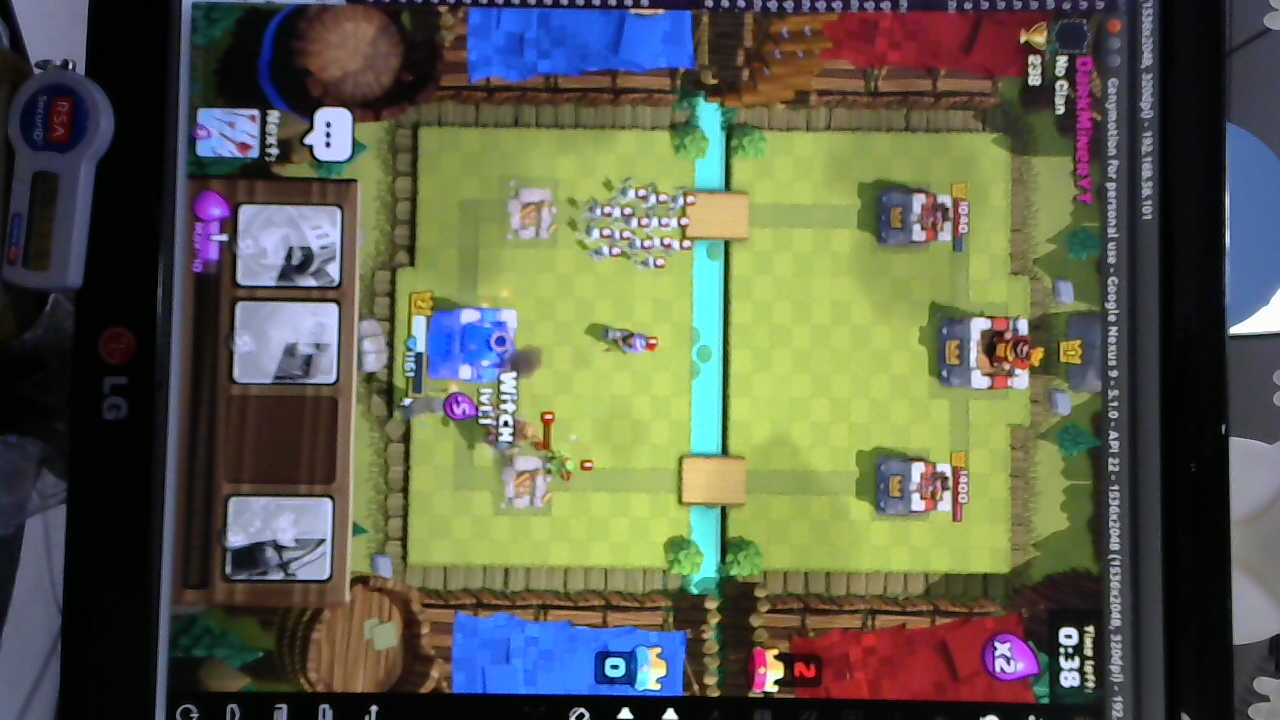darena: (497, 447, 553, 513), (505, 186, 559, 247)
earena: (875, 453, 954, 522), (877, 183, 954, 248)
eking: (935, 316, 1038, 391)
king: (428, 300, 521, 387)
musketeer: (594, 323, 653, 356)
prince: (477, 404, 540, 455)
skeletonarmy: (584, 182, 696, 273)
speargoblin: (542, 450, 581, 489)
